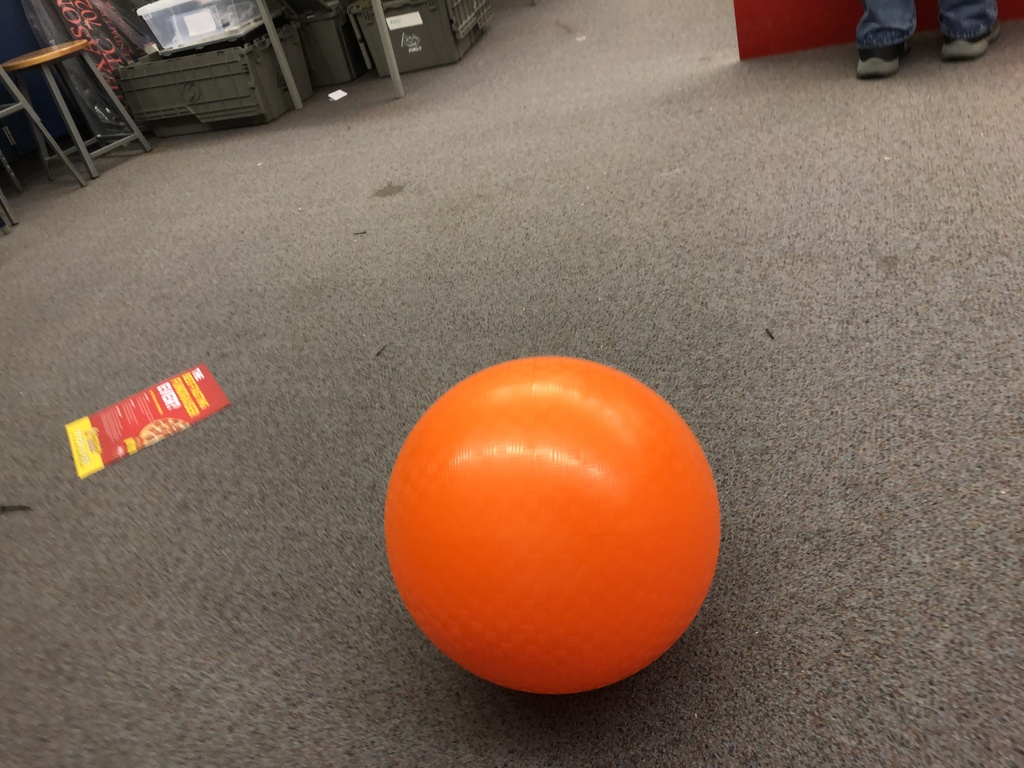cargo: (376, 341, 732, 703)
